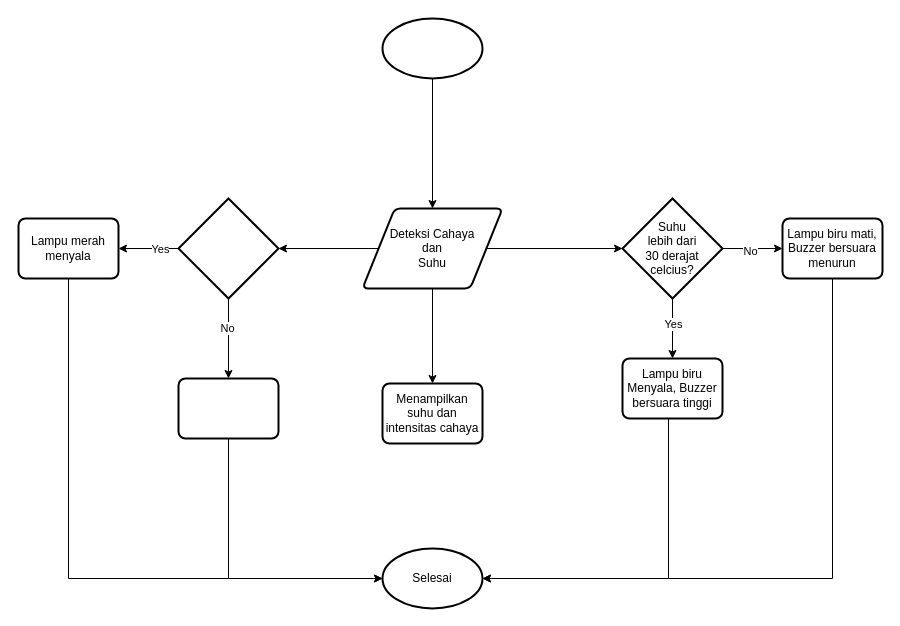
The diagram is 900 pixels wide and 626 high, and some of its shapes have lost their labels. The centre of each missing label's shape, as x and y in pixels:
Cahaya lebih dari 500 lux?: [228,248]
Lampu merah mati: [228,408]
Start: [432,48]
